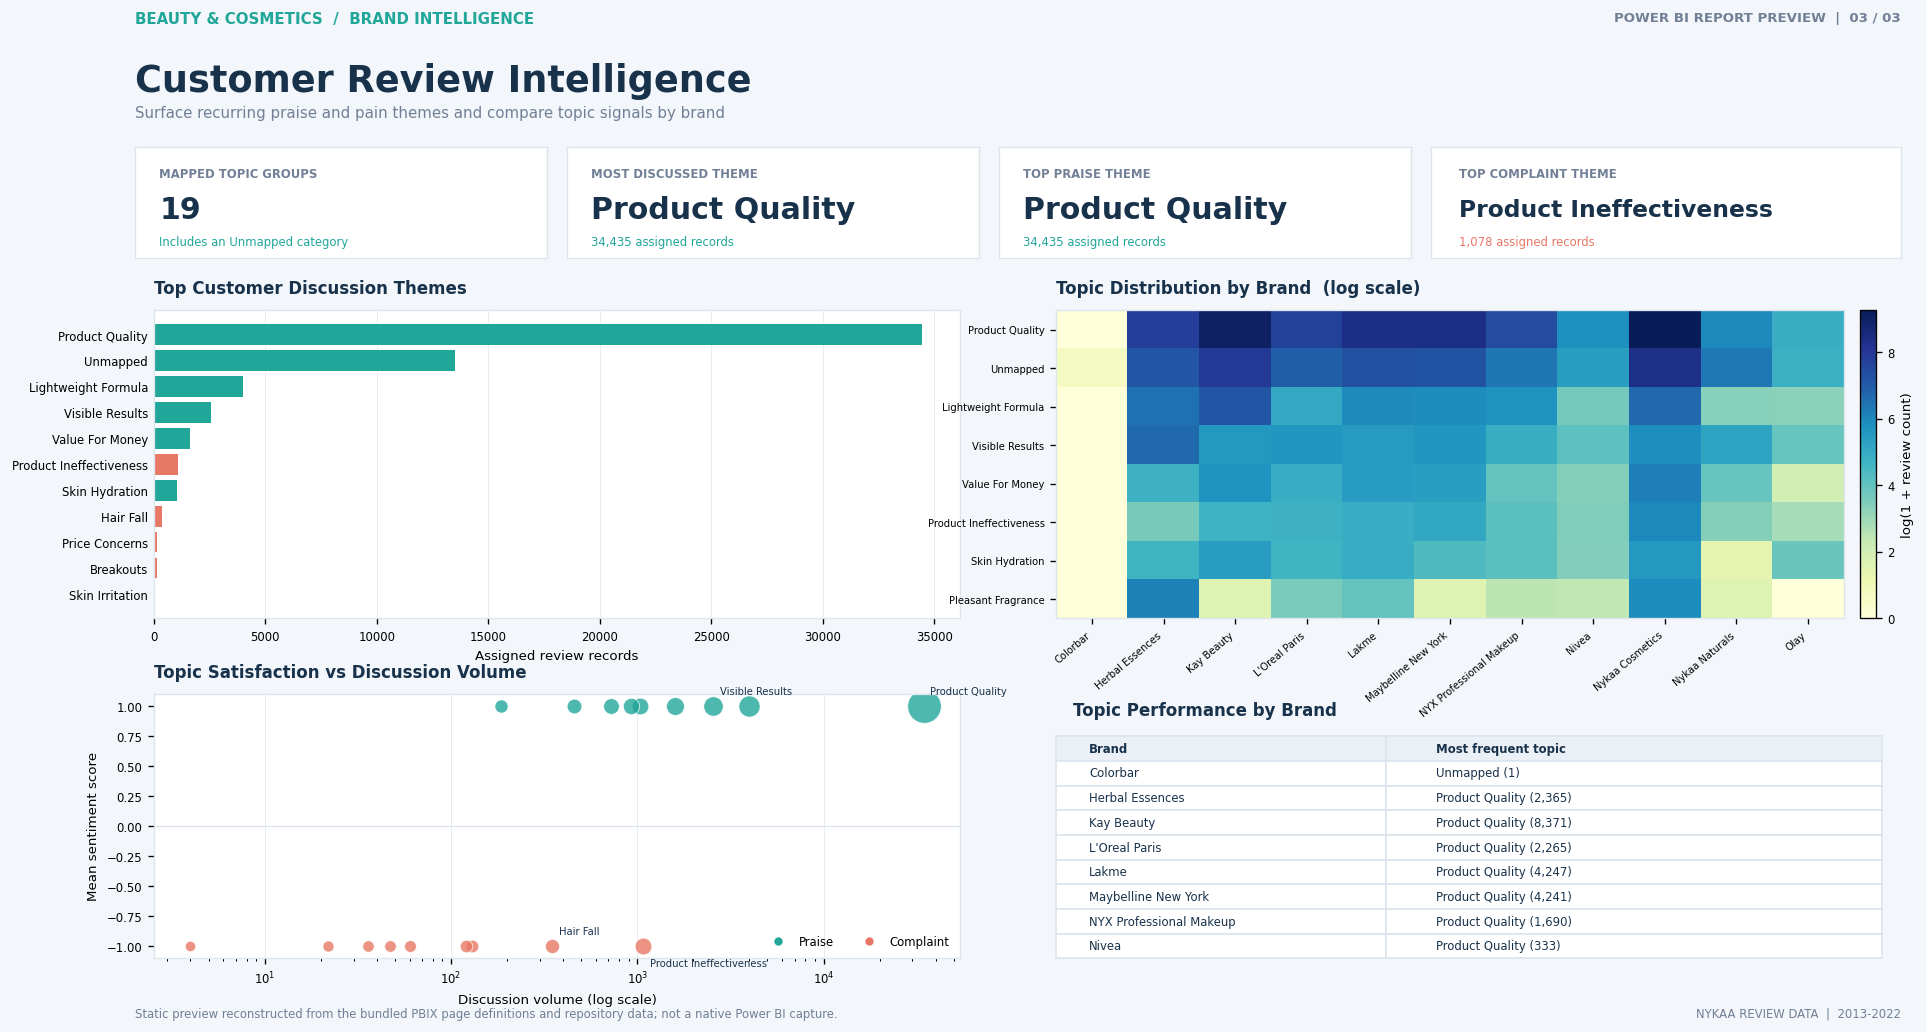

The page's visual inventory and layout, read from the dashboard file:
{"tool":"powerbi","page":{"name":"Customer Review Intelligence","canvas":[1280,720],"ordinal":2},"visuals":[{"type":"textbox","box":[176,16,816,80],"z":0},{"type":"image","box":[0,0,160,112],"z":1000},{"type":"shape","box":[0,96,512,304],"z":2000},{"type":"clusteredBarChart","title":"Top Customer Discussion Themes","fields":{"Category":["dim_topic.mapped_topic"],"Y":["Measures (2).Reviews Analyzed"]},"box":[16,128,480,256],"z":3000},{"type":"shape","box":[528,96,496,304],"z":4000},{"type":"pivotTable","title":"Topic Distribution by Brand","fields":{"Values":["Measures (2).Reviews Analyzed"],"Columns":["dim_brand.brand_name"],"Rows":["dim_topic.mapped_topic"]},"box":[544,128,464,240],"z":5000},{"type":"shape","box":[0,400,512,320],"z":6000},{"type":"scatterChart","title":"Topic Satisfaction vs Discussion Volume","fields":{"Category":["dim_topic.mapped_topic"],"X":["Measures (2).Reviews Analyzed"],"Y":["Measures (2).Average Rating"],"Series":["dim_topic.mapped_topic"]},"box":[16,432,480,256],"z":7000},{"type":"shape","box":[528,400,496,320],"z":8000},{"type":"tableEx","title":"Topic Performance by Brand","fields":{"Values":["dim_topic.mapped_topic","dim_brand.brand_name","Measures (2).Reviews Analyzed","Measures (2).Average Rating"]},"box":[560,416,432,288],"z":9000},{"type":"shape","box":[1040,0,240,112],"z":10000},{"type":"slicer","fields":{"Values":["dim_brand.brand_name"]},"box":[1056,48,192,48],"z":11000},{"type":"shape","box":[1040,112,240,112],"z":12000},{"type":"slicer","fields":{"Values":["dim_topic.mapped_topic"]},"box":[1056,160,208,48],"z":13000},{"type":"shape","box":[1040,224,240,128],"z":14000},{"type":"slicer","fields":{"Values":["fact_customer_feedback.Rating Band"]},"box":[1056,288,208,48],"z":15000},{"type":"shape","box":[1024,352,256,368],"z":16000},{"type":"textbox","box":[1040,400,224,288],"z":17000}]}

Visuals, with their boxes on the page's 1280x720 design canvas (x1, y1, x2, y2). These are canvas units, not pixel positions in the 1926x1032 screenshot, which may show the page scaled, cropped or inside an application window:
textbox: bbox=(176, 16, 992, 96)
image: bbox=(0, 0, 160, 112)
shape: bbox=(0, 96, 512, 400)
"Top Customer Discussion Themes" clusteredBarChart: bbox=(16, 128, 496, 384)
shape: bbox=(528, 96, 1024, 400)
"Topic Distribution by Brand" pivotTable: bbox=(544, 128, 1008, 368)
shape: bbox=(0, 400, 512, 720)
"Topic Satisfaction vs Discussion Volume" scatterChart: bbox=(16, 432, 496, 688)
shape: bbox=(528, 400, 1024, 720)
"Topic Performance by Brand" tableEx: bbox=(560, 416, 992, 704)
shape: bbox=(1040, 0, 1280, 112)
slicer - dim_brand.brand_name: bbox=(1056, 48, 1248, 96)
shape: bbox=(1040, 112, 1280, 224)
slicer - dim_topic.mapped_topic: bbox=(1056, 160, 1264, 208)
shape: bbox=(1040, 224, 1280, 352)
slicer - fact_customer_feedback.Rating Band: bbox=(1056, 288, 1264, 336)
shape: bbox=(1024, 352, 1280, 720)
textbox: bbox=(1040, 400, 1264, 688)
